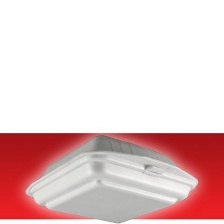foam_box: (21, 133, 200, 223)
